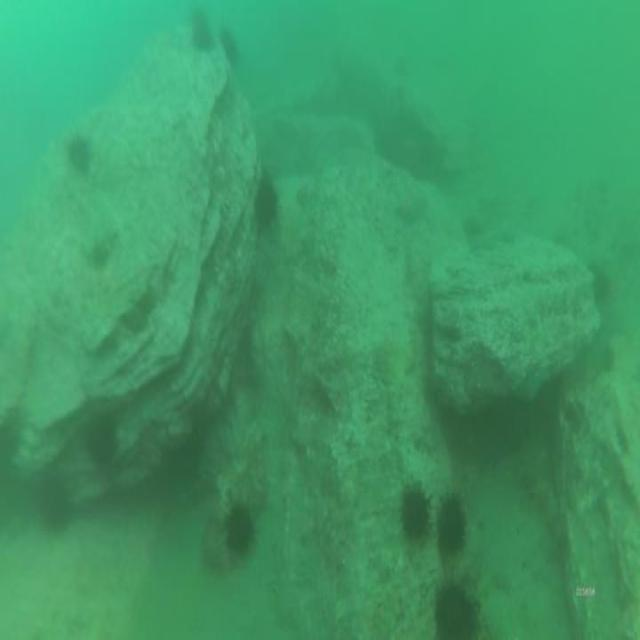echinus: (438, 588, 477, 640), (36, 479, 70, 531), (439, 499, 464, 561), (225, 509, 253, 558), (84, 416, 113, 462), (402, 488, 428, 536), (190, 8, 214, 50), (257, 175, 276, 226), (64, 131, 89, 169), (222, 35, 236, 63)
starfish: (516, 366, 540, 404), (393, 187, 416, 220), (469, 229, 503, 250)
